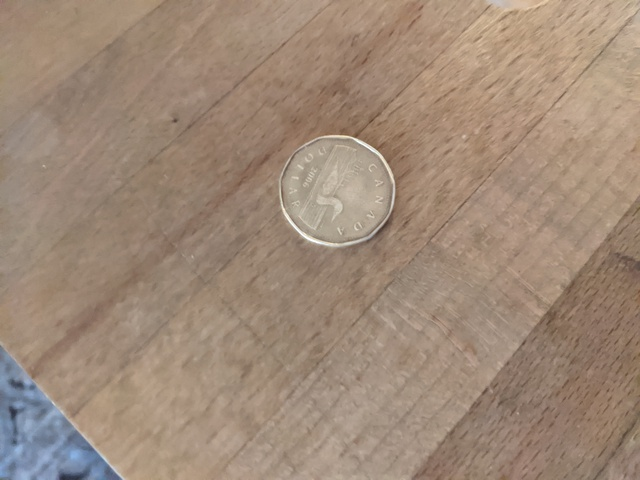loonie: (265, 129, 409, 253)
